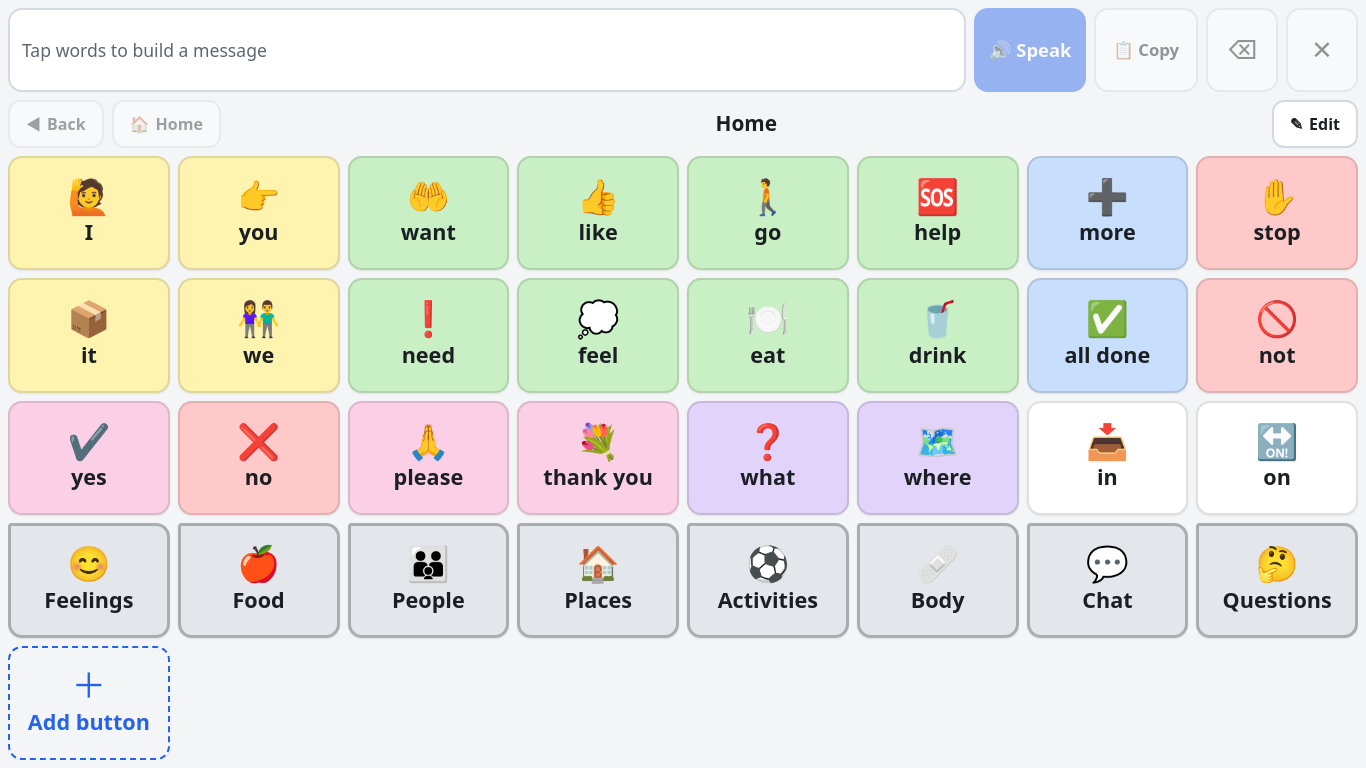
App › Add button on the Home board › goes straight to the editor when the math question is turned off
What coordinates should you click on to do the following:
click the button "＋ Add button"
I would click on:
 (89, 703)
Its box is [8,646,170,760].
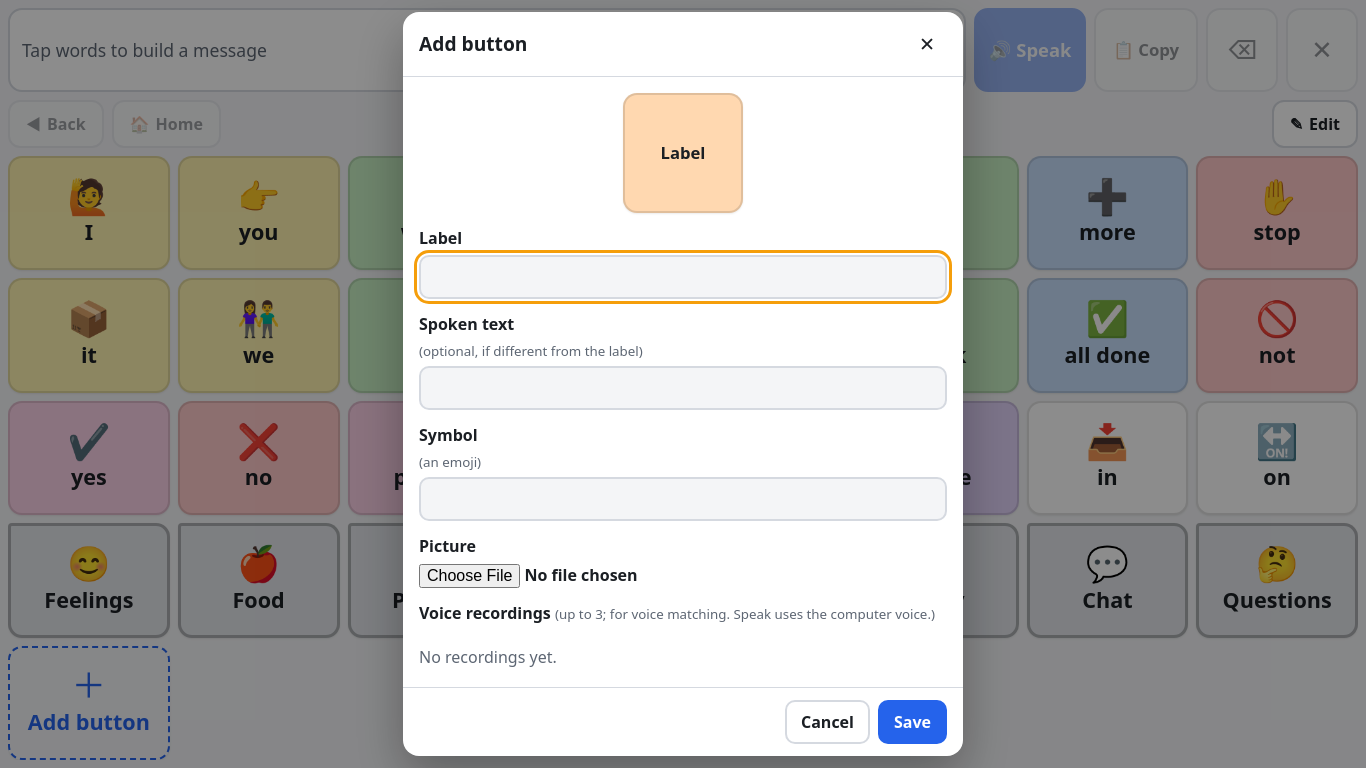
expect the dialog "Add button" is shown: met, box [403,12,963,756]
